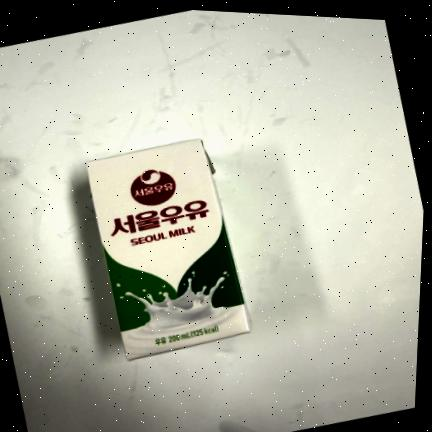milk_green: (86, 137, 249, 361)
